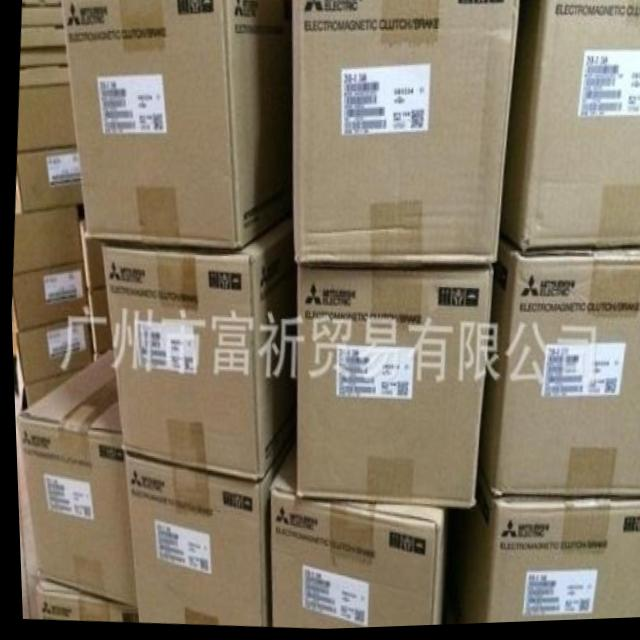box: (290, 0, 519, 268), (61, 0, 292, 252), (99, 212, 295, 485), (292, 268, 491, 510), (474, 237, 640, 503), (498, 0, 640, 253), (120, 423, 293, 628), (266, 442, 442, 631), (441, 462, 640, 627), (12, 345, 133, 610), (9, 261, 86, 330), (13, 317, 89, 385), (13, 349, 89, 410), (10, 207, 79, 274), (14, 147, 81, 213), (31, 580, 133, 623), (15, 84, 75, 152), (83, 286, 110, 359), (78, 223, 105, 290)
